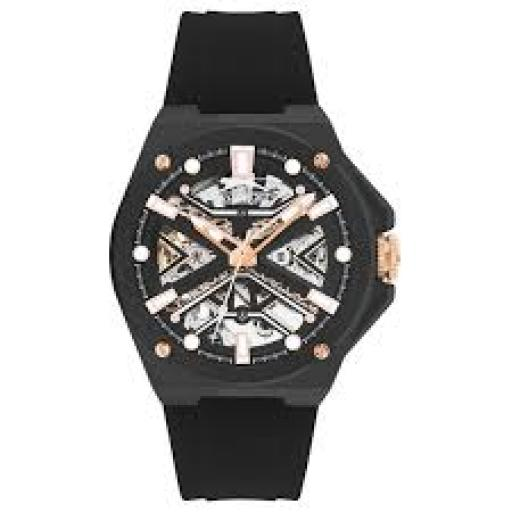KolSaati: (104, 5, 413, 512)
